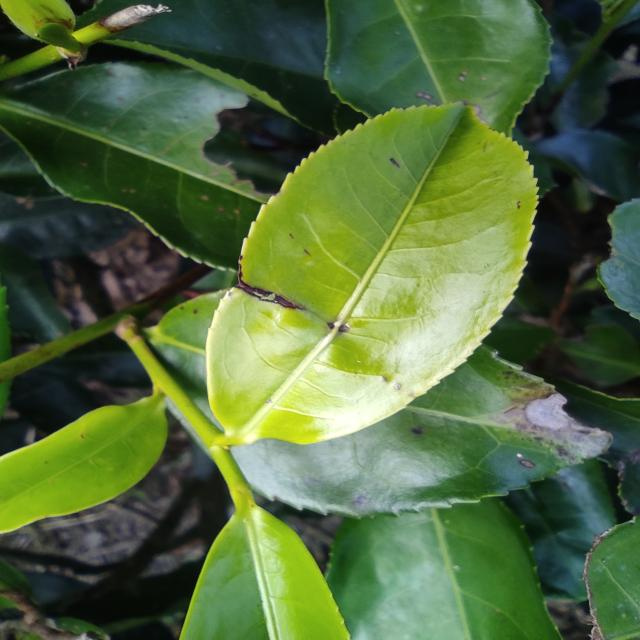Category B(2-4 days): (186, 84, 554, 474)
